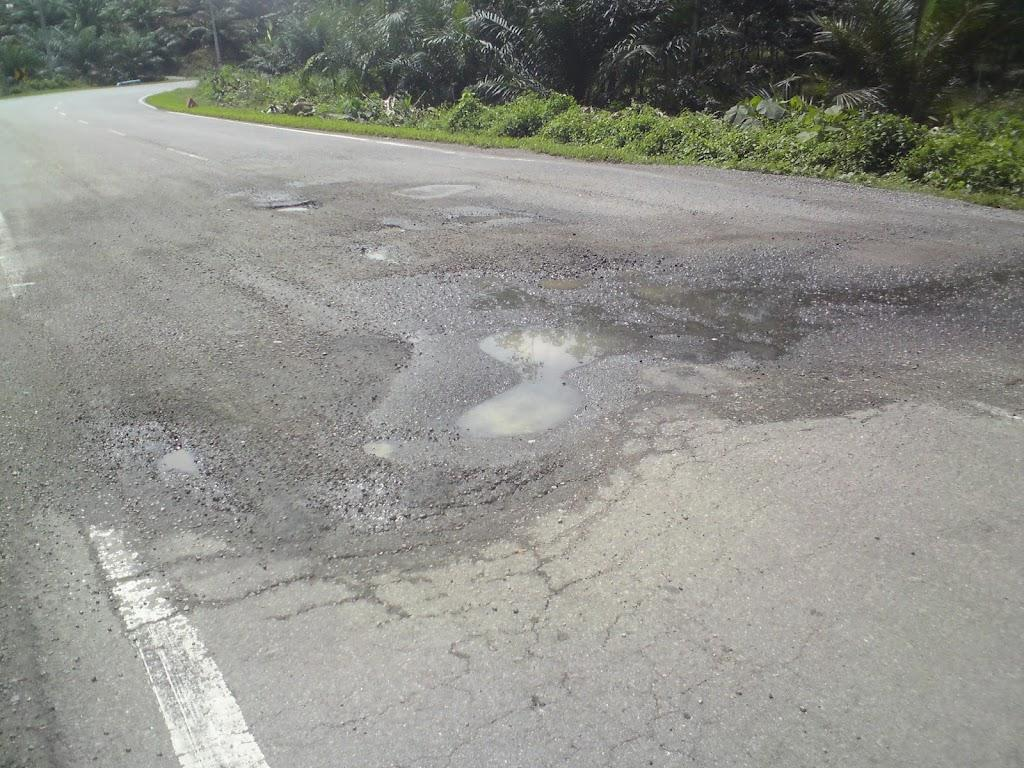Pothole: (238, 128, 901, 471)
